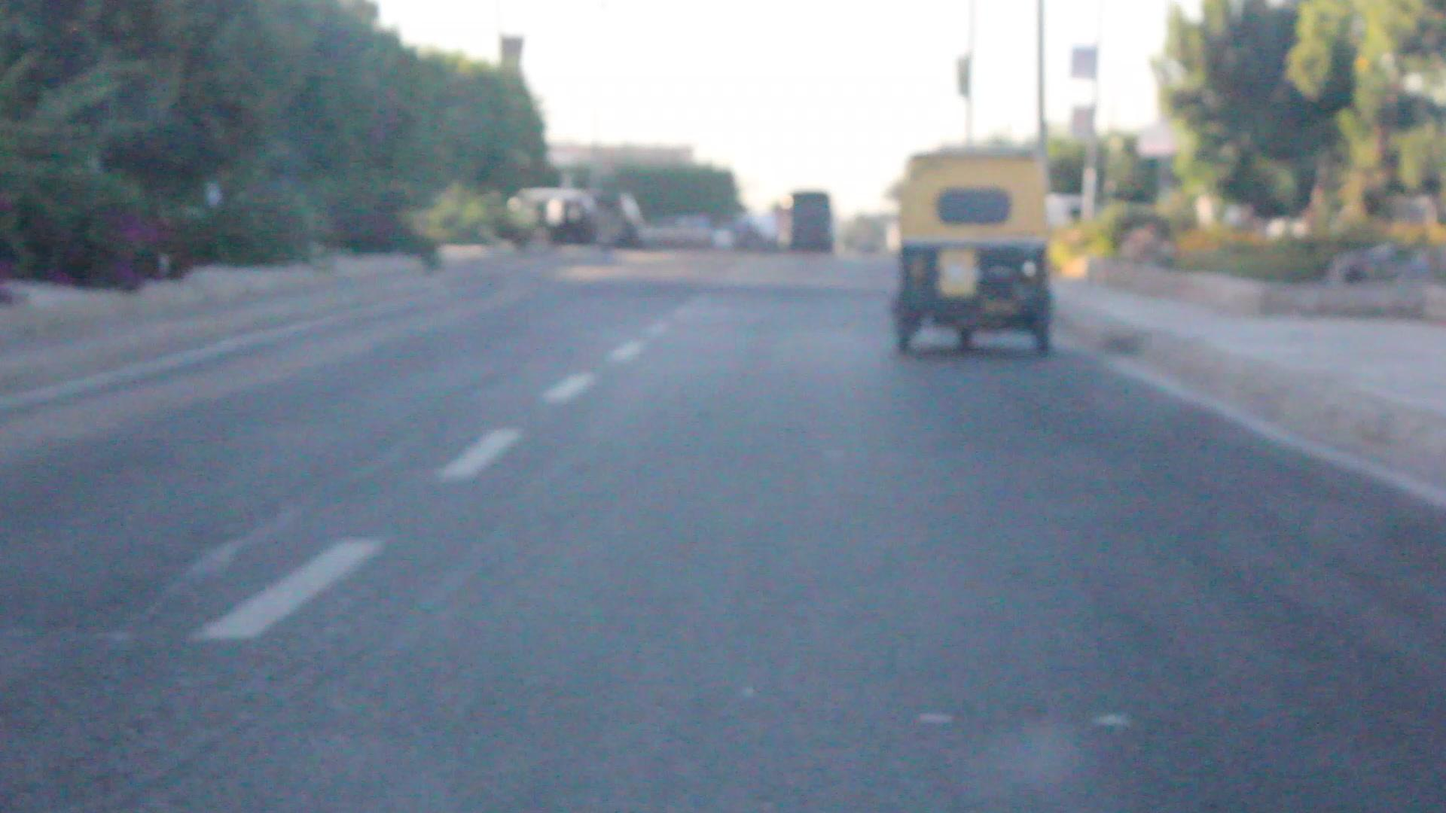Bump: (432, 270, 899, 304)
